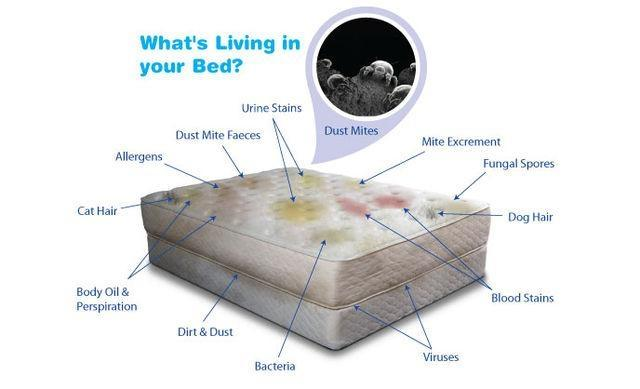Bed-Mattress: (137, 164, 490, 302)
